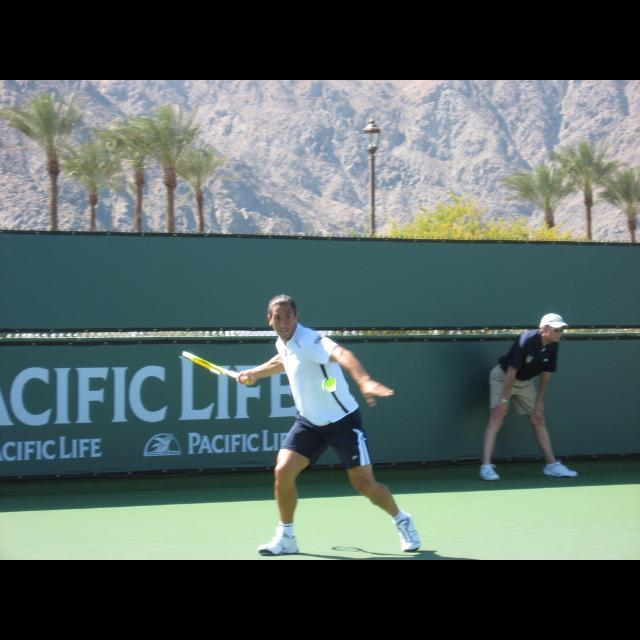tennis ball: (324, 378, 336, 392)
